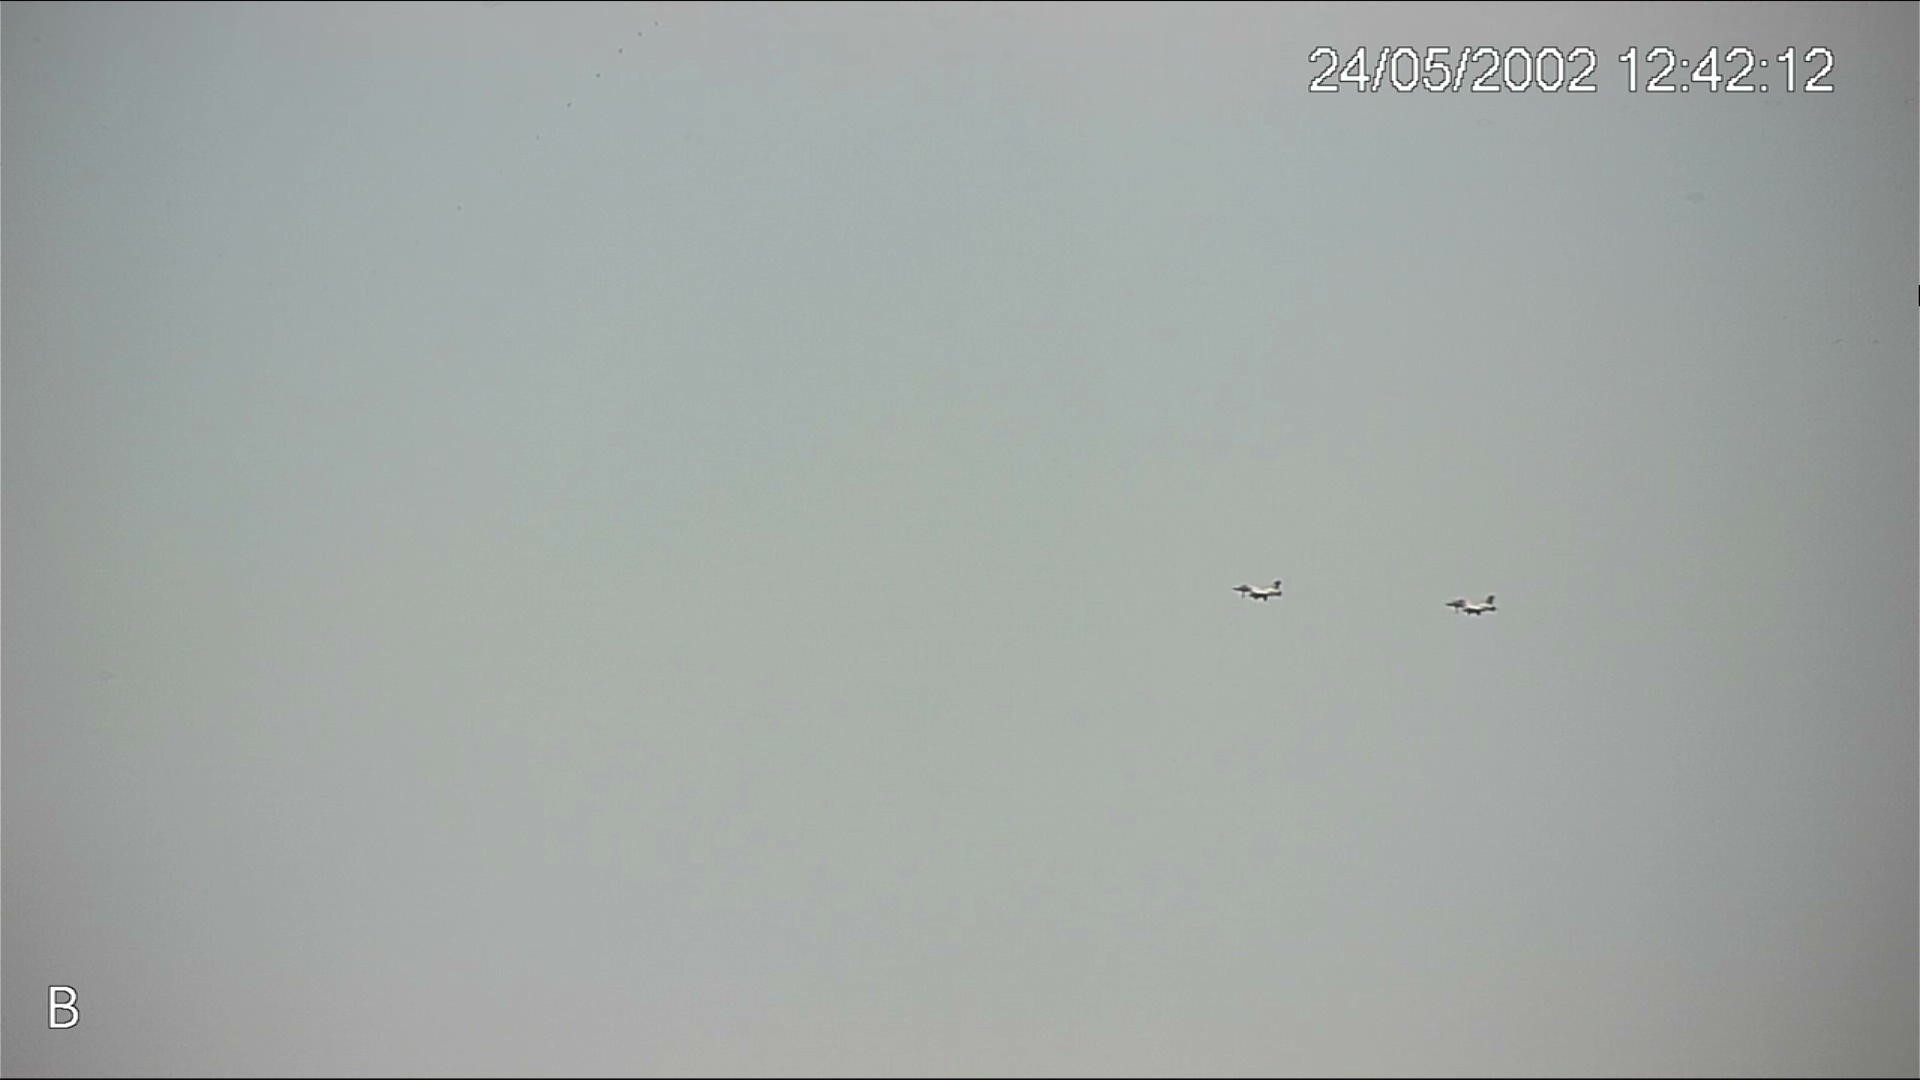SU_30: (1443, 592, 1498, 618), (1232, 576, 1284, 603)
